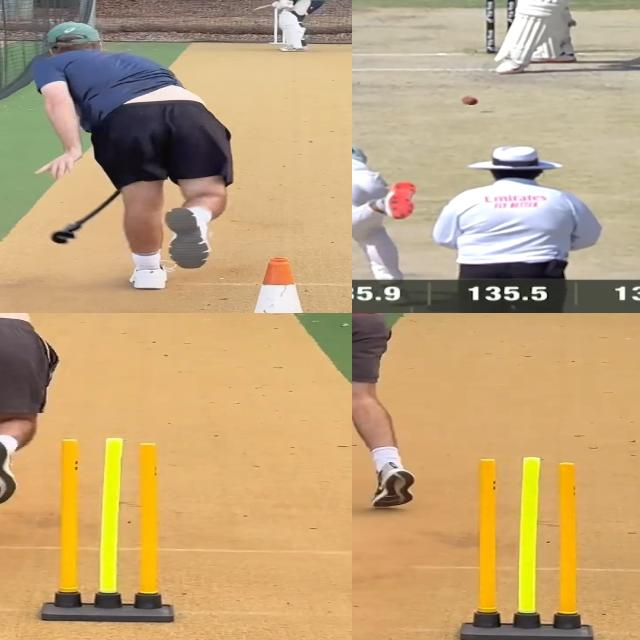Cricket ball: (461, 95, 479, 105)
Stumps: (40, 435, 177, 622), (463, 456, 593, 640)
